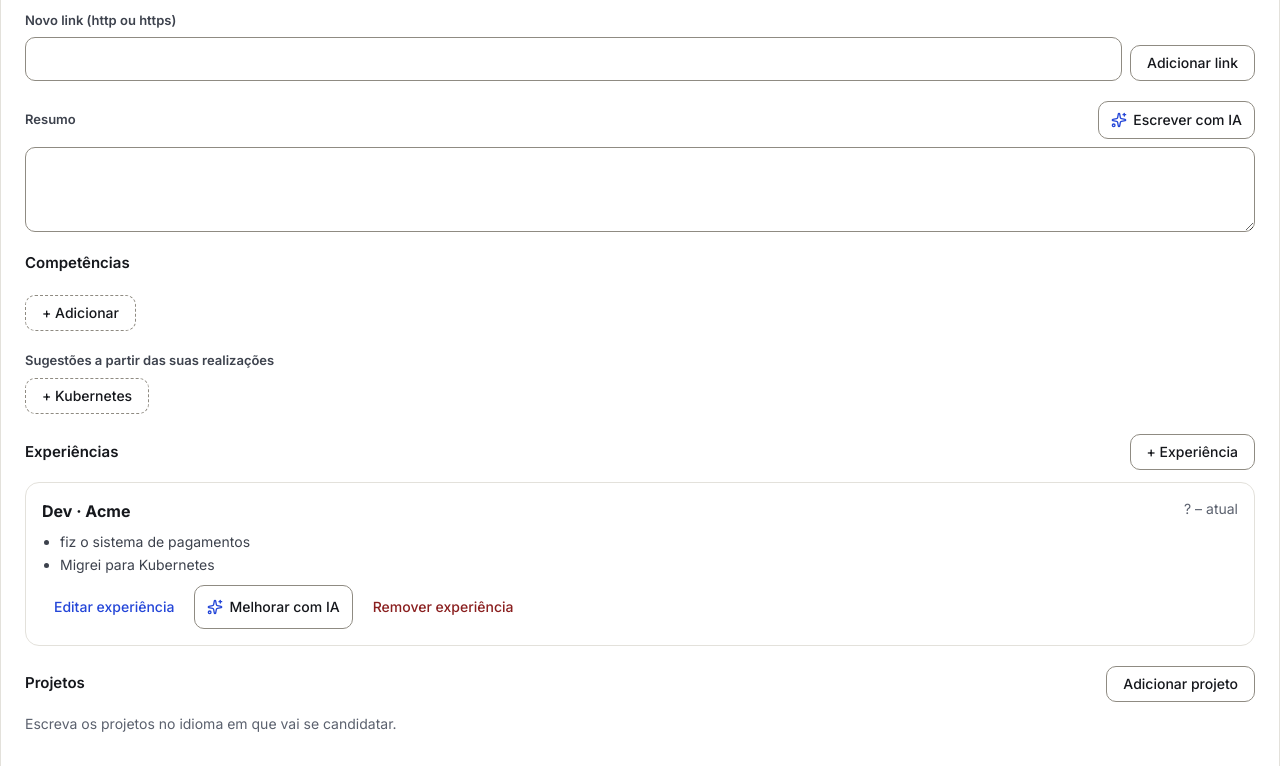
it: Sugestão de skills › o chip adiciona a skill com years null ao rascunho e some
This screenshot has width=1280, height=766.
Later steps or results of the test are not shown.
(page scrolled)
Click the button "+ Kubernetes": coordinates (87, 396) [25, 378, 149, 414]
(page scrolled)
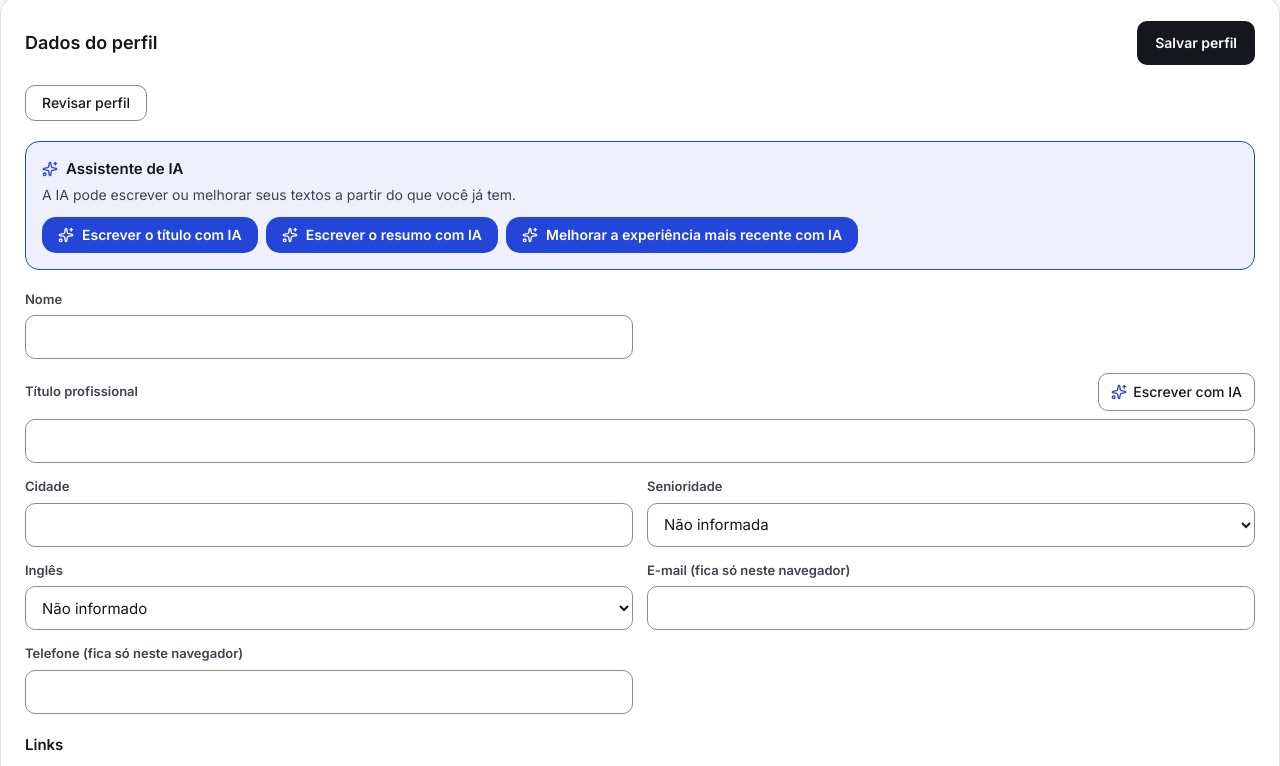
Expected: the button "+ Kubernetes" is gone
